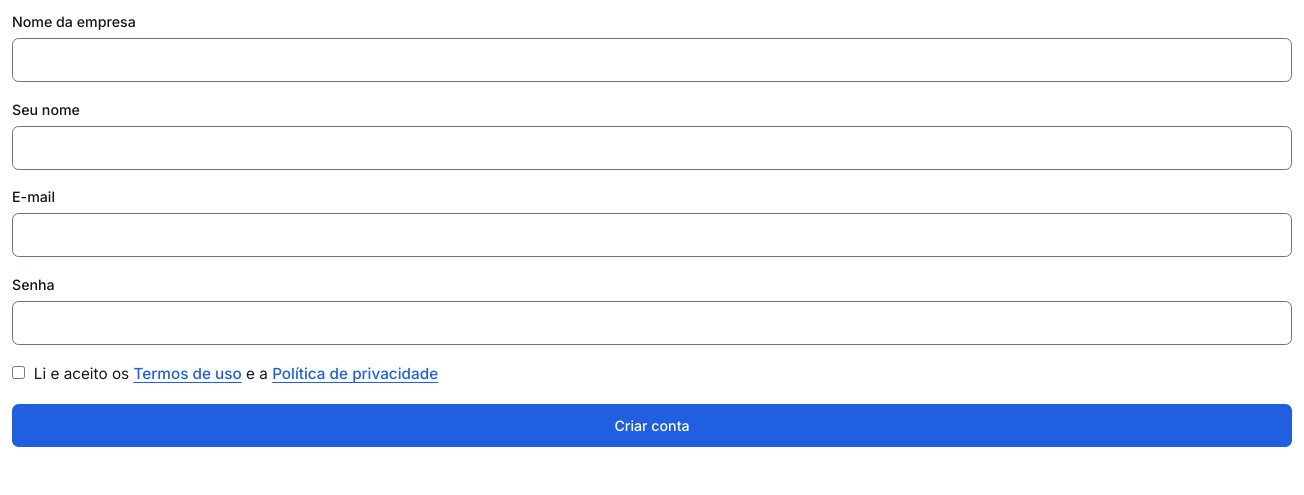
Scenario: FormularioCadastro › recusa senha curta com o mínimo no texto
The image size is (1304, 495).
Type "Loja Centro" into the field labelled "Nome da empresa" at coordinates (652, 60), box [12, 38, 1292, 82]
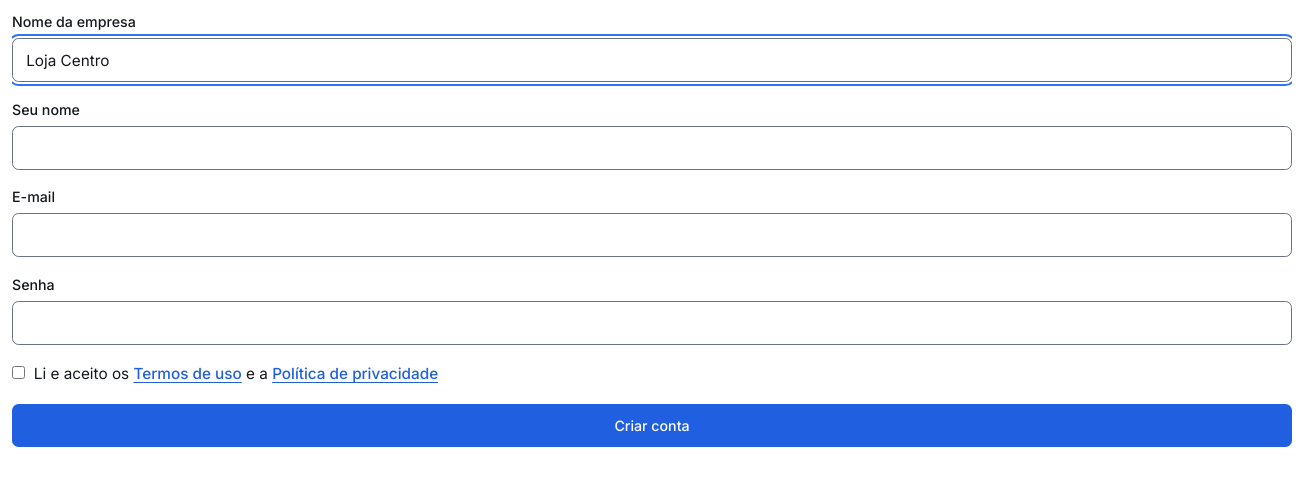
Type "Ana Souza" into the field labelled "Seu nome" at coordinates (652, 148), box [12, 126, 1292, 170]
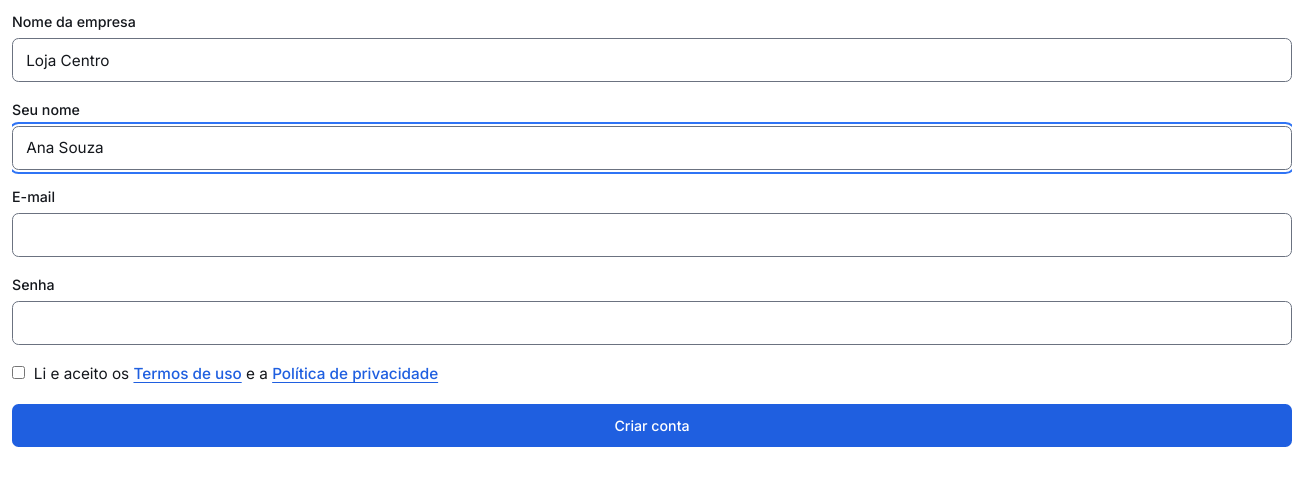
Type "ana@empresa.com.br" into the field labelled "E-mail" at coordinates (652, 235), box [12, 213, 1292, 257]
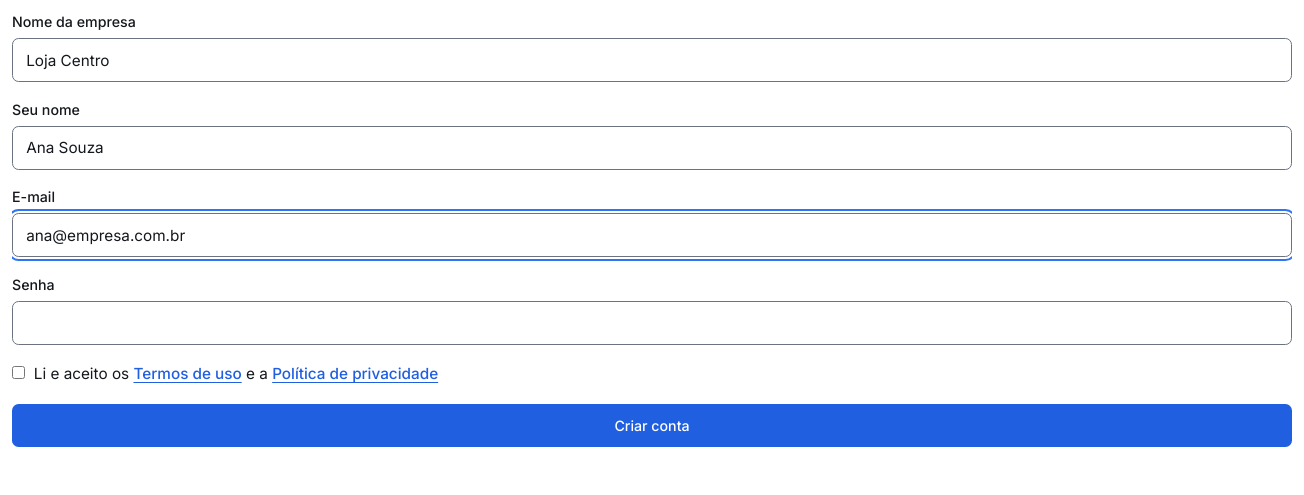
Type "curta" into the password field labelled "Senha" at coordinates (652, 323), box [12, 301, 1292, 345]
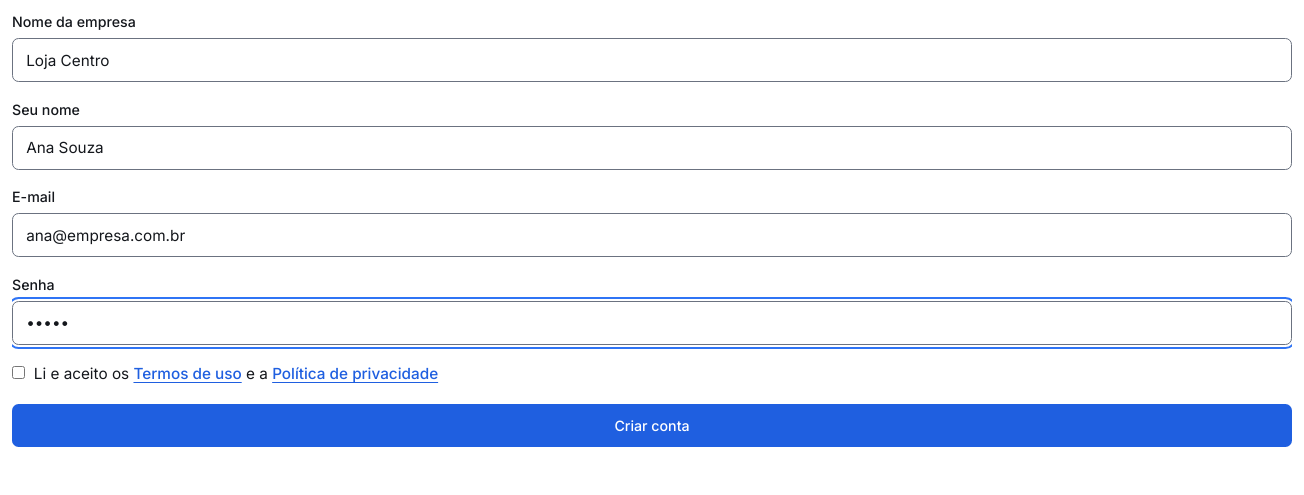
Click the checkbox at coordinates (18, 373), box [12, 366, 25, 379]
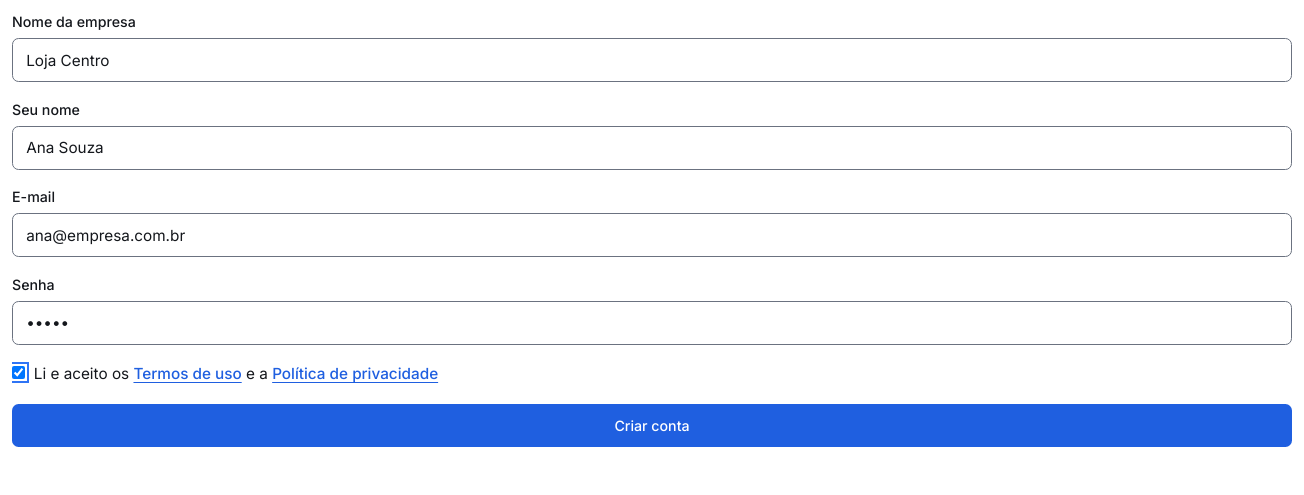
Click the button "Criar conta" at coordinates (652, 426), box [12, 404, 1292, 447]
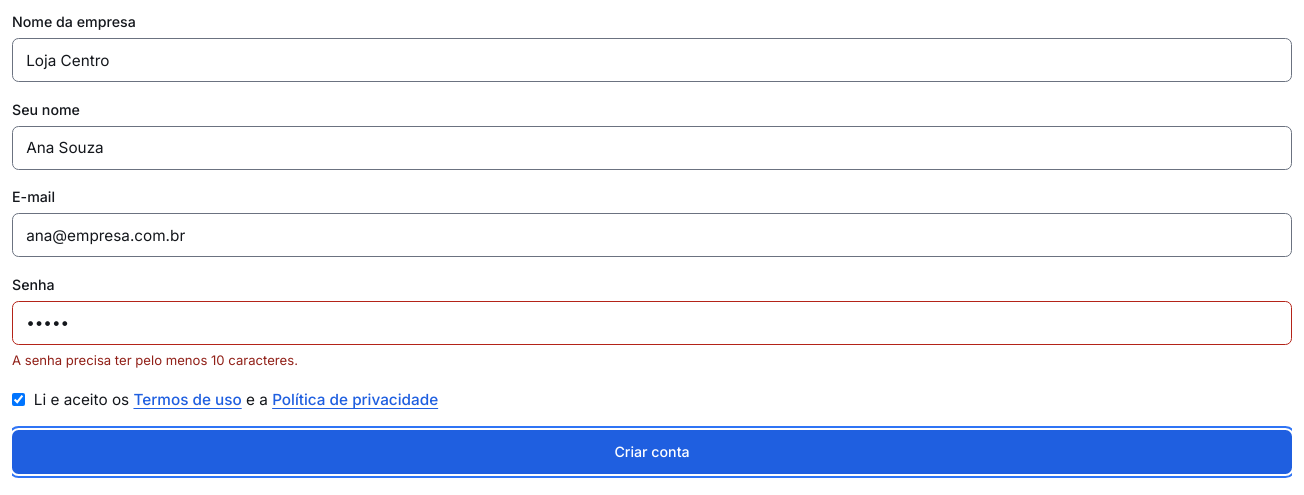
Expected: the text "A senha precisa ter pelo menos 10 caracteres." is shown, [12, 352, 298, 368]
